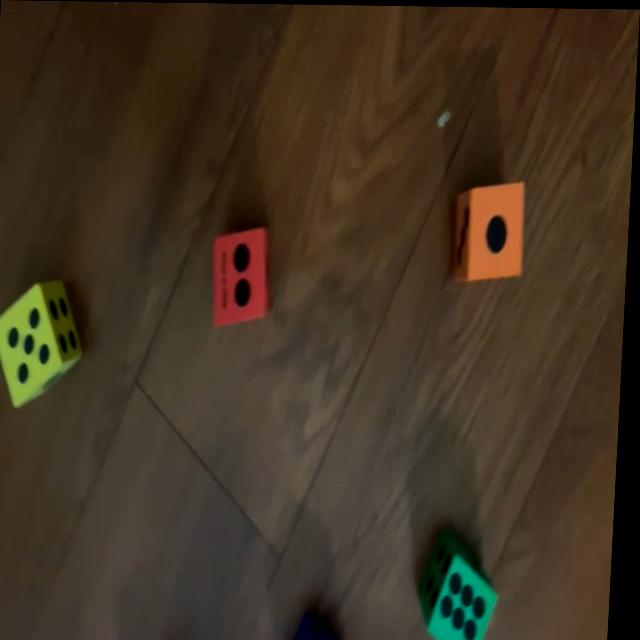cube: (423, 529, 506, 640), (211, 224, 277, 329), (298, 611, 341, 640)
